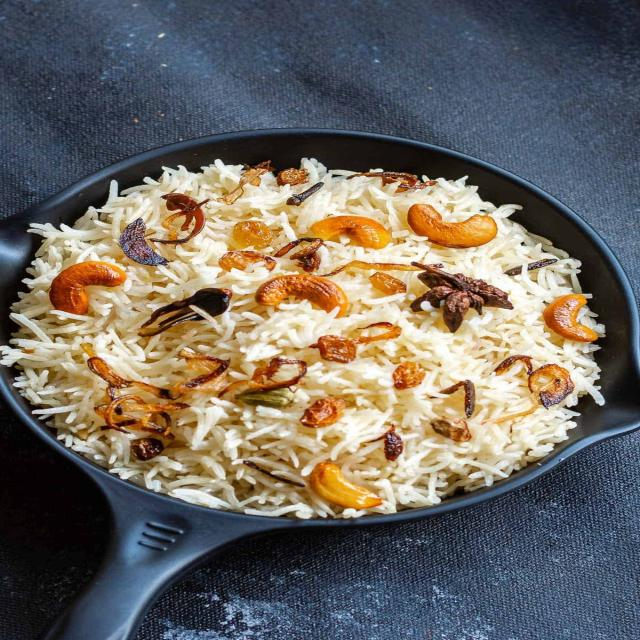nei satham: (24, 148, 598, 506)
